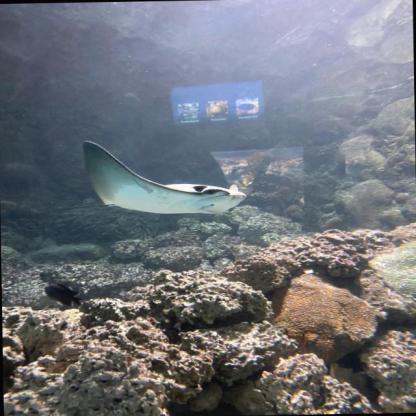fish: (44, 282, 82, 308)
stingray: (82, 137, 246, 217)
